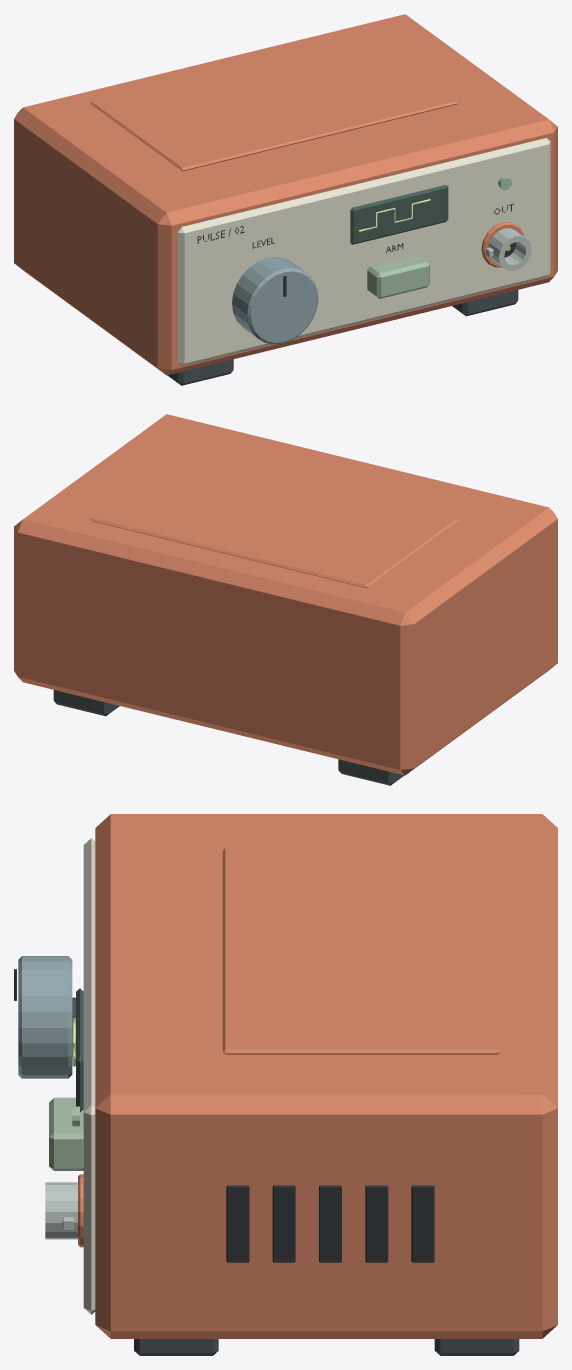
The model's file is asset.glb.
3 renders of one model, top to bottom at view 1: azimuth 30°, elevation 25°; view 2: azimuth 150°, elevation 25°; view 3: azimuth 270°, elevation 25°, orthographic. The views are drawn at different scales.
Parts seen in each view (by area): view 1: trigger-controller.body, trigger-controller.panel_front, trigger-controller.top_inset, trigger-controller.knob, trigger-controller.display, trigger-controller.button, trigger-controller.port_out, trigger-controller.foot_1_-1, trigger-controller.foot_-1_-1, trigger-controller.port_out_base; view 2: trigger-controller.body, trigger-controller.top_inset, trigger-controller.foot_1_1, trigger-controller.foot_-1_1; view 3: trigger-controller.body, trigger-controller.top_inset, trigger-controller.knob, trigger-controller.panel_front, trigger-controller.button, trigger-controller.vent_0, trigger-controller.vent_1, trigger-controller.vent_3, trigger-controller.vent_4, trigger-controller.vent_2, trigger-controller.port_out, trigger-controller.foot_1_1 (+2 smaller).
Boxes of the visible parts, x1,y1,x2,y2 form: trigger-controller.body: (14,14,557,375); trigger-controller.panel_front: (177,138,550,366); trigger-controller.top_inset: (90,34,458,171); trigger-controller.knob: (232,256,318,344); trigger-controller.display: (350,185,448,244); trigger-controller.button: (367,255,429,298); trigger-controller.port_out: (488,228,531,270); trigger-controller.foot_1_-1: (452,290,518,316); trigger-controller.foot_-1_-1: (167,359,233,385); trigger-controller.port_out_base: (481,222,523,267); trigger-controller.body: (14,414,557,775); trigger-controller.top_inset: (90,451,458,588); trigger-controller.foot_1_1: (53,690,119,716); trigger-controller.foot_-1_1: (338,759,404,785); trigger-controller.body: (95,814,557,1338); trigger-controller.top_inset: (222,848,500,1054); trigger-controller.knob: (18,956,72,1078); trigger-controller.panel_front: (83,838,95,1314); trigger-controller.button: (49,1097,83,1170); trigger-controller.vent_0: (411,1185,434,1262); trigger-controller.vent_1: (365,1185,388,1262); trigger-controller.vent_3: (272,1185,295,1262); trigger-controller.vent_4: (226,1185,249,1262); trigger-controller.vent_2: (319,1185,341,1262); trigger-controller.port_out: (45,1182,77,1239); trigger-controller.foot_1_1: (434,1339,519,1355).
Size of the model in its own units: 0.181 by 0.0815 by 0.1411.
